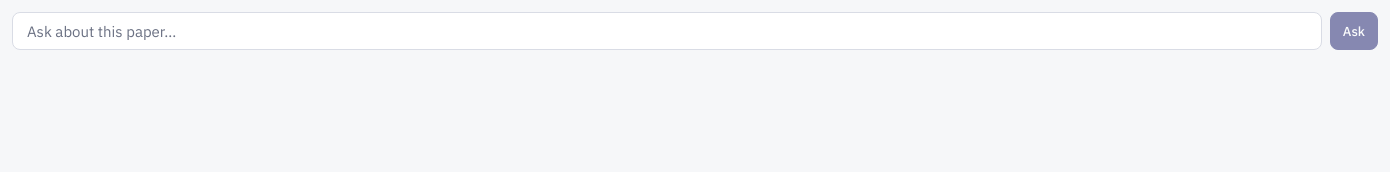
Scenario: AskPanel › shows the server error message under the question
The width and height of the screenshot is (1390, 172).
Step 1. Type "Hello there?" into the field named "Question about this paper" → [667, 31], box [12,12,1322,50]
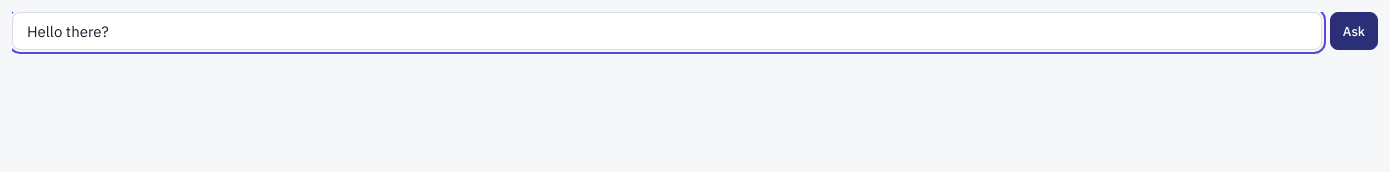
Step 2. Click the button "Ask" → [1354, 31], box [1330,12,1378,50]
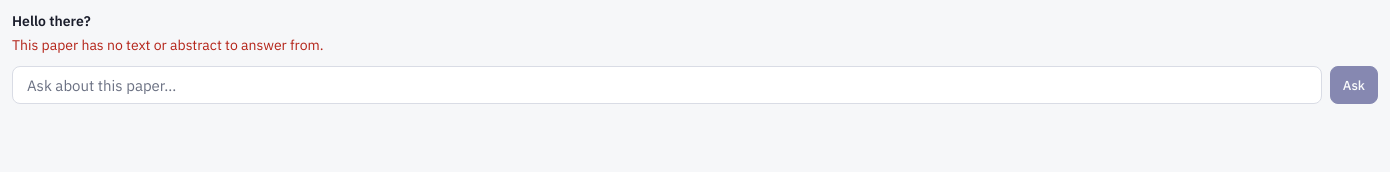
Expected: the message reads "This paper has no text or abstract to answer from.", [12,36,324,54]
